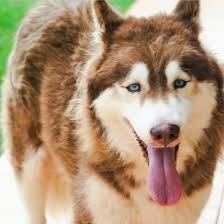husky: (84, 3, 213, 193)
